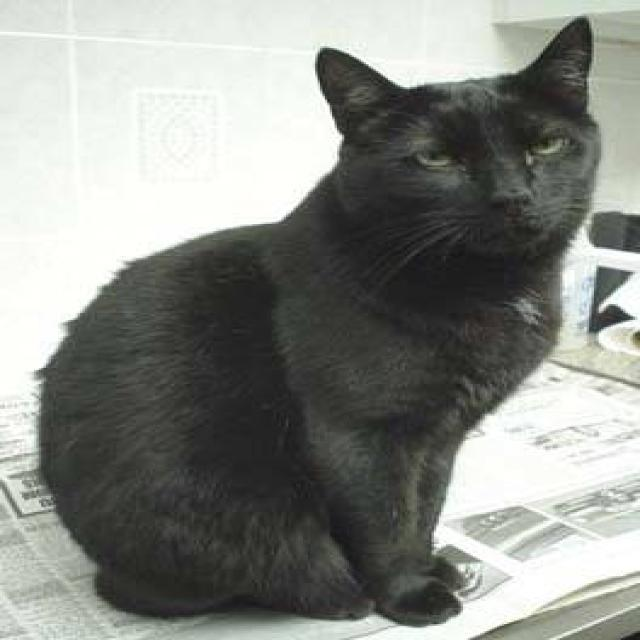cat: (29, 14, 601, 626)
